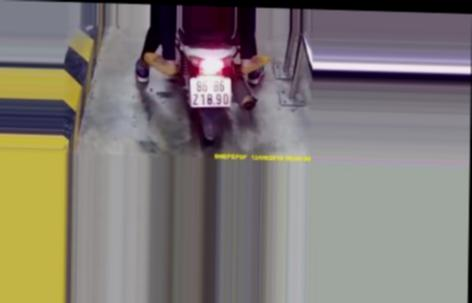License_Plate: (183, 74, 235, 110)
